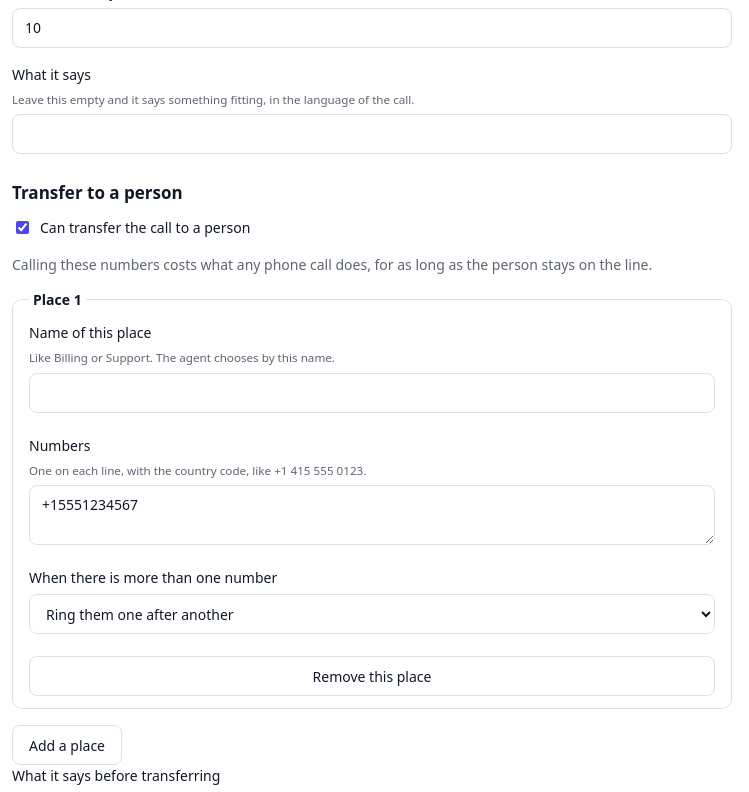
Test: how an agent behaves on a call › names a row by its place until it has a name of its own
This screenshot has width=749, height=792.
(page scrolled)
Expected: the text "Place 1" is shown, [29,289,86,310]
In the field labelled "Name of this place": x=372, y=393 [29,373,715,413], type "Billing"
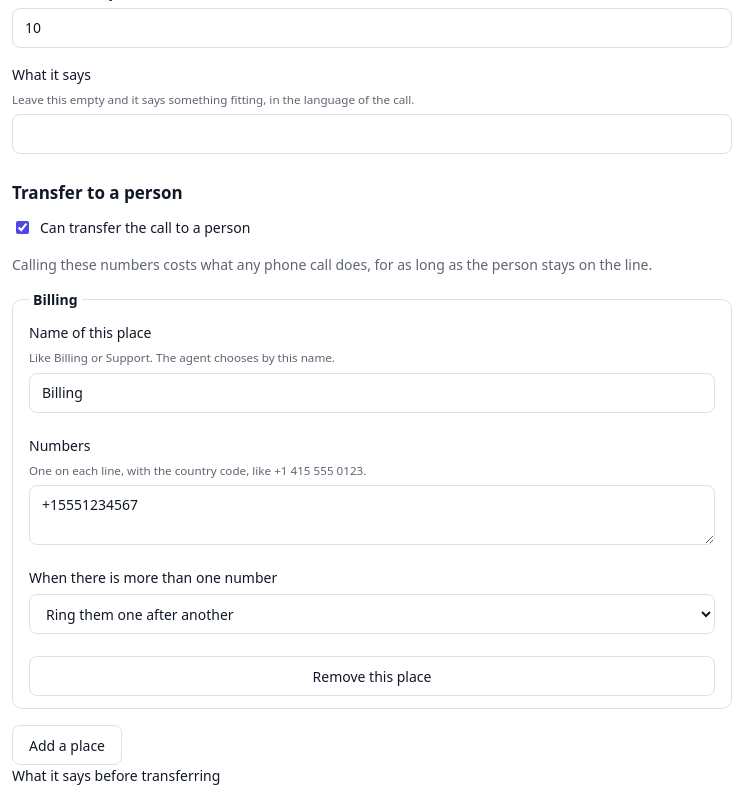
Expected: the text "Billing" is shown, [33,290,78,309]
